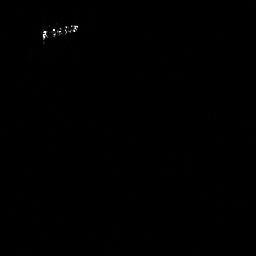ship: (39, 22, 82, 46)
